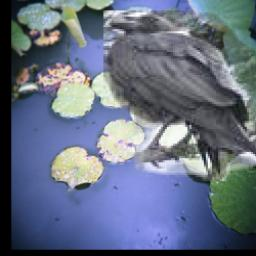Crow: (103, 10, 256, 181)
